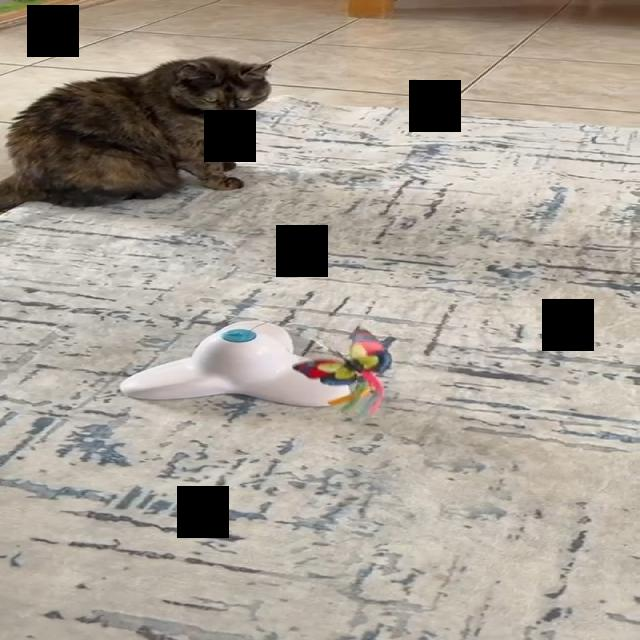authorized: (0, 55, 272, 212)
